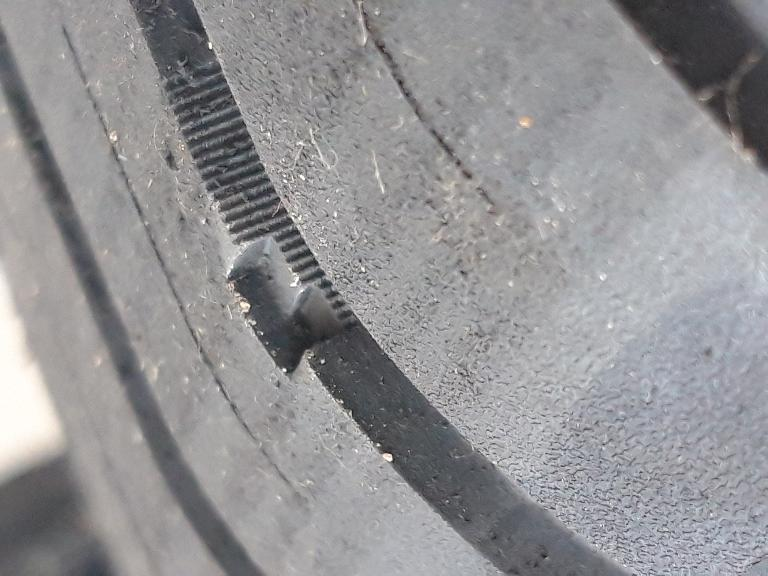temoin:50: (192, 181, 374, 390)
